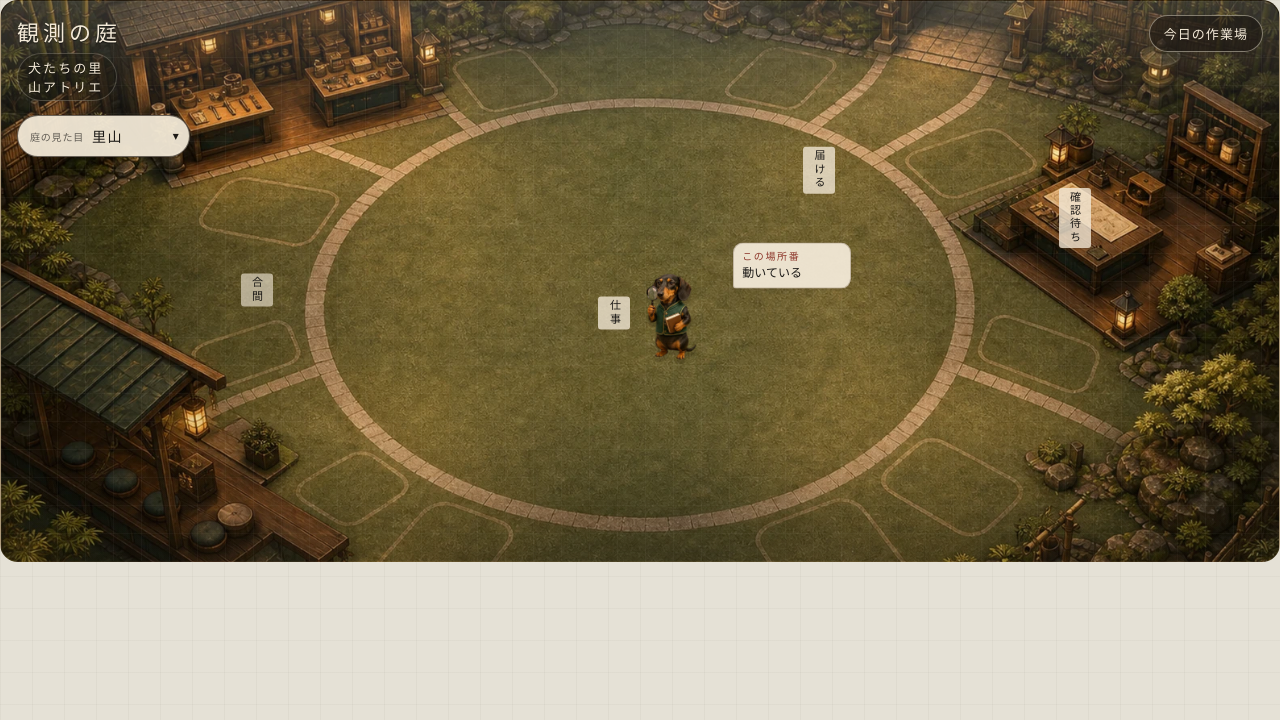
ObserverGarden › shows only known facts when no real title remains
Check: the text "動いている" is shown, box [742,266,802,280]
Click the 7th button at [675, 307], box [615,247,735,367]
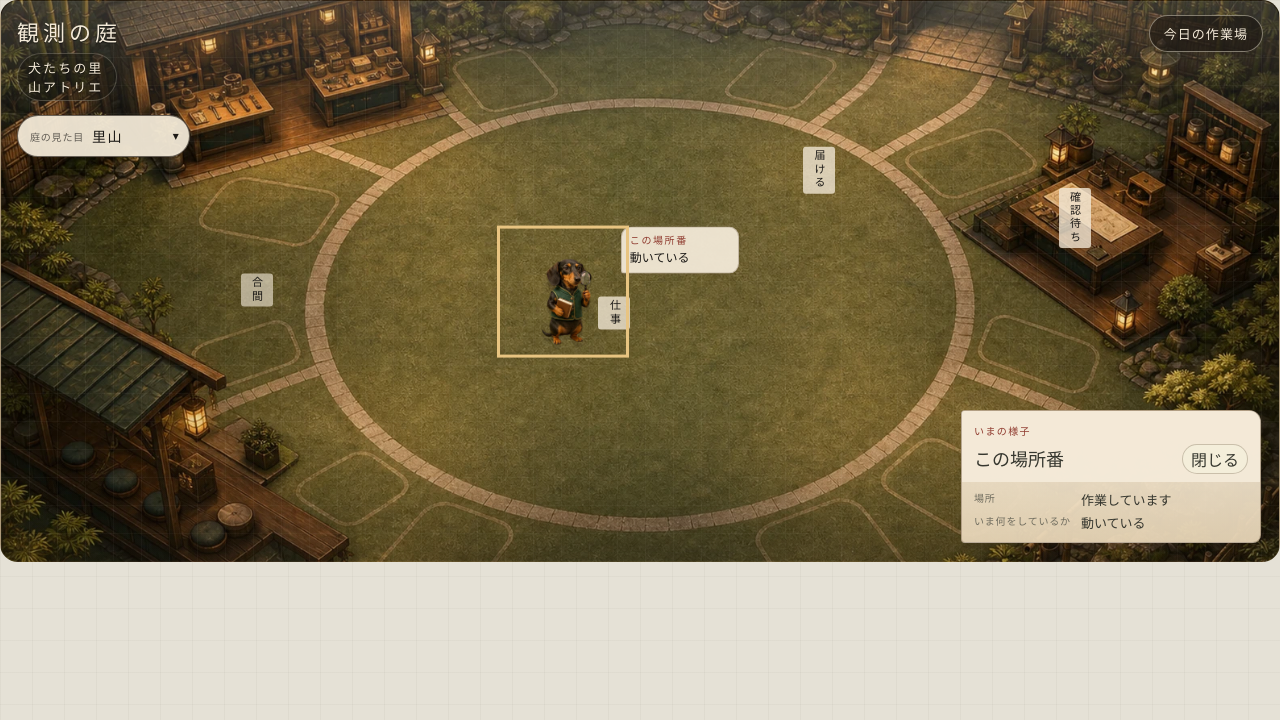
Check: the element with test id "garden-inspect" does not show "まだ分かっていません", box [961,410,1261,543]
Check: the element with test id "garden-inspect" shows "動いている", box [1081,516,1146,531]
